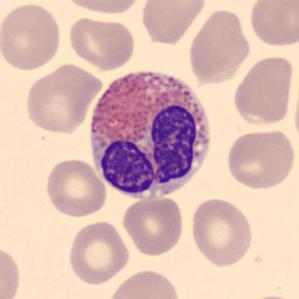Eosinophil: (83, 60, 218, 207)
RBC: (22, 62, 103, 135), (186, 6, 253, 86), (231, 53, 296, 128), (188, 196, 255, 268), (224, 127, 297, 191), (0, 1, 64, 73), (66, 218, 132, 287), (66, 13, 136, 72), (120, 195, 186, 257), (43, 157, 108, 219), (137, 0, 208, 45), (247, 0, 298, 49), (106, 267, 181, 299), (0, 243, 23, 299), (60, 0, 143, 15), (291, 64, 299, 151), (239, 292, 298, 299)
